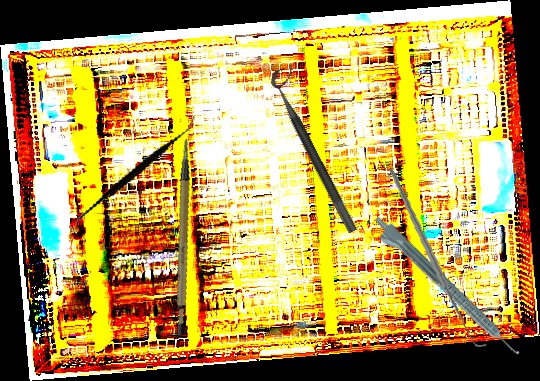Fixation Ring: (267, 63, 371, 235)
Handpiece: (366, 212, 523, 366)
Hook Surgical: (372, 165, 502, 349)
Scalpel Handle: (149, 136, 222, 338)
Spatula Surgical: (73, 91, 197, 257)
